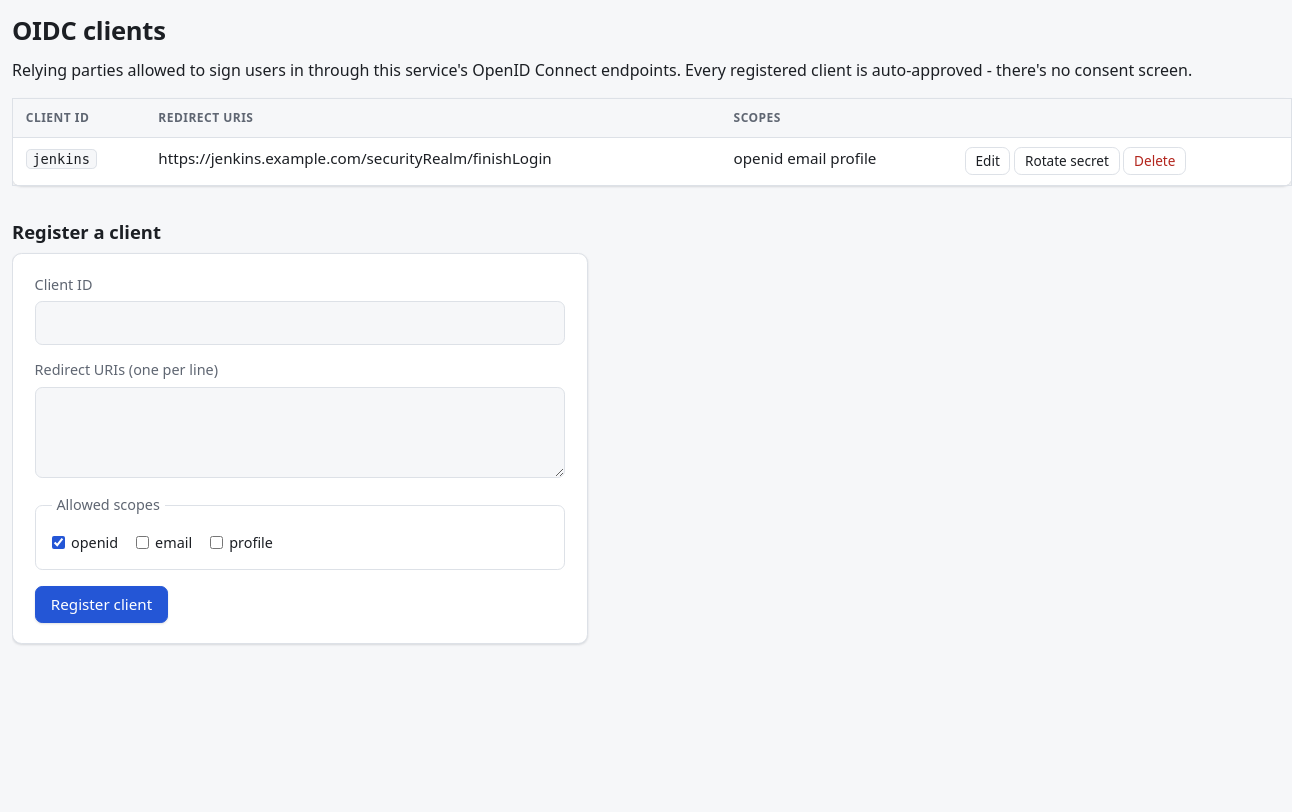
Test: AdminOidcClients › rotates a secret only after confirmation
Check: the text "jenkins" is shown, box top-left (26, 149), bottom-right (97, 169)
Click the button "Rotate secret" at (1067, 161), box top-left (1014, 147), bottom-right (1120, 175)
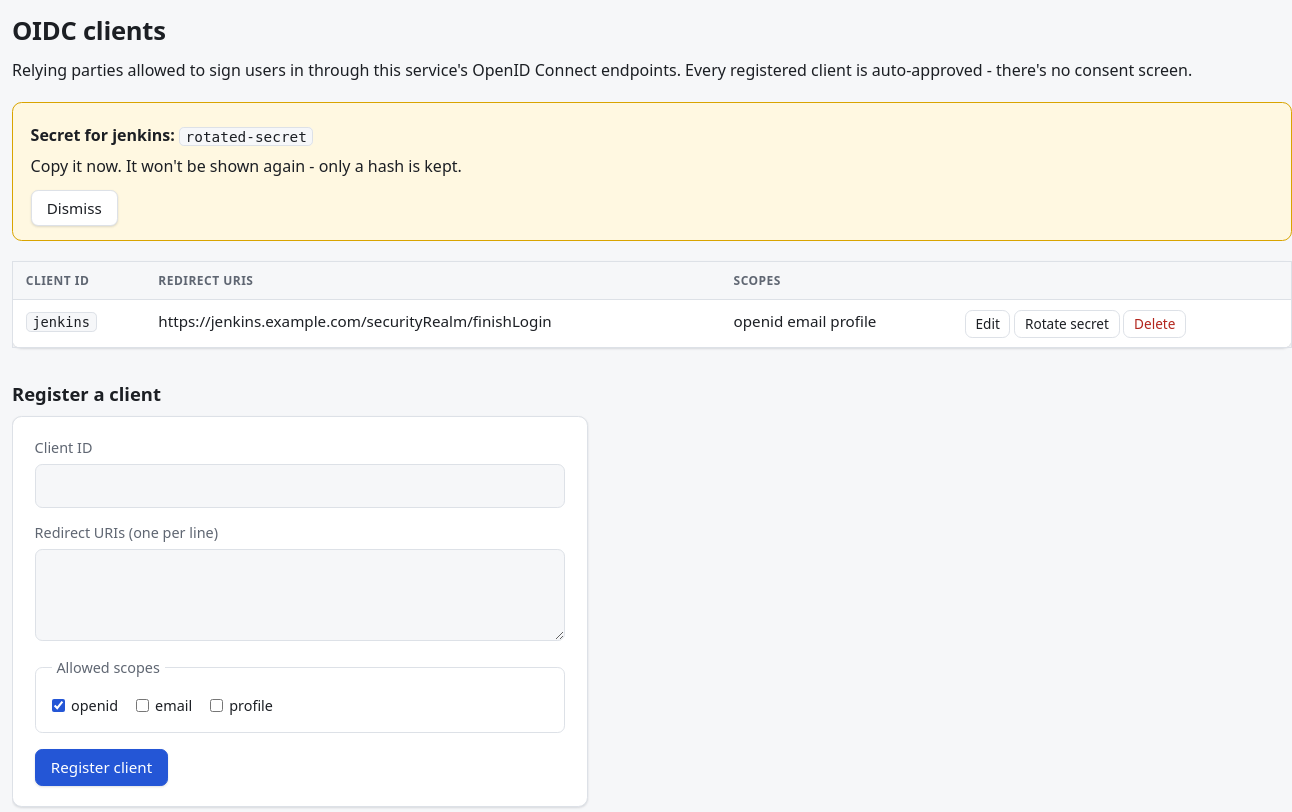
Check: the text "rotated-secret" is shown, box top-left (179, 127), bottom-right (314, 146)
